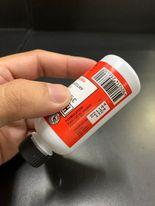-Bottle-: (19, 54, 142, 168)
